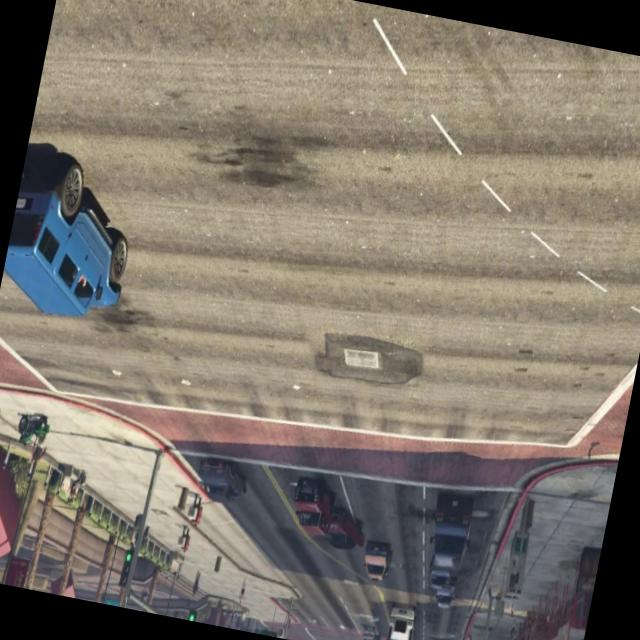Green-Signal: (115, 536, 138, 596), (184, 598, 202, 622), (257, 622, 282, 638)
